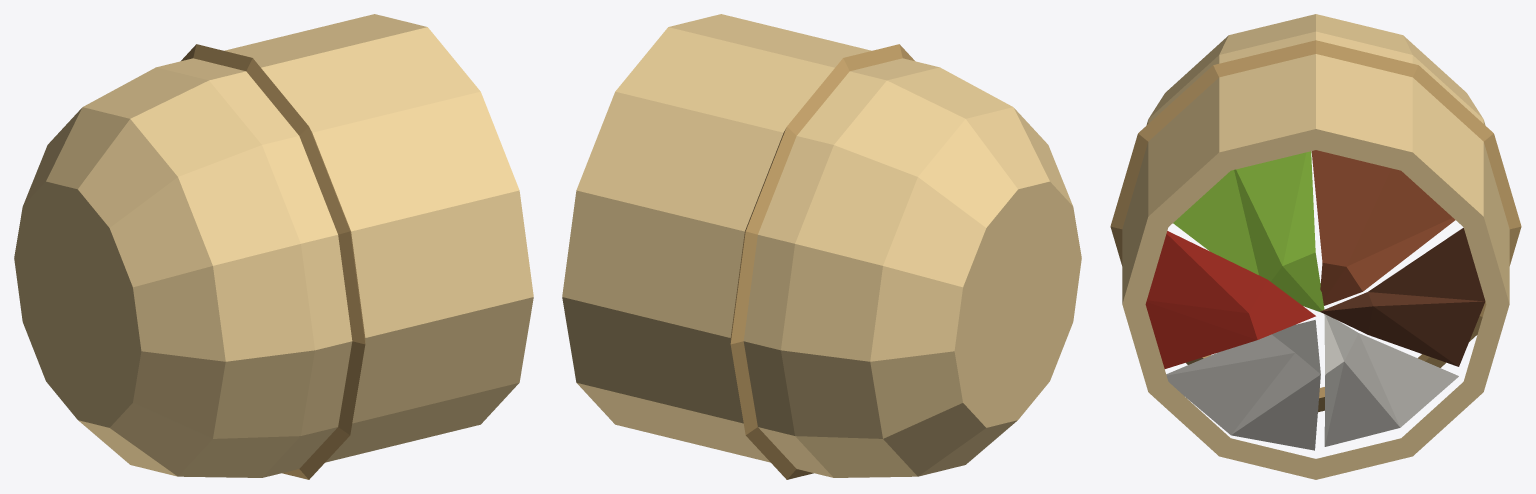
The model's file is food_burrito_chunk.glb.
The picture shows the model from 3 angles, left to right: view 1: azimuth 30°, elevation 25°; view 2: azimuth 150°, elevation 25°; view 3: azimuth 270°, elevation 25°; orthographic projection. The views are drawn at different scales.
Visible parts, largest first — view 1: food_burrito_chunk; view 2: food_burrito_chunk; view 3: food_burrito_chunk.
Part boxes in pixels (x1,y1,x2,y2): food_burrito_chunk: (14,14,533,479); food_burrito_chunk: (562,14,1081,479); food_burrito_chunk: (1110,14,1521,479).
Size of the model in its own units: 0.0859 by 0.0892 by 0.0892.
